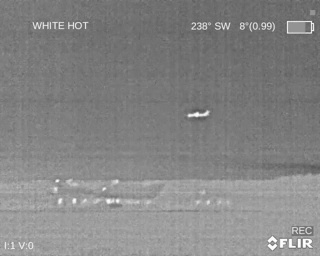AIRPLANE: (186, 109, 210, 118)
